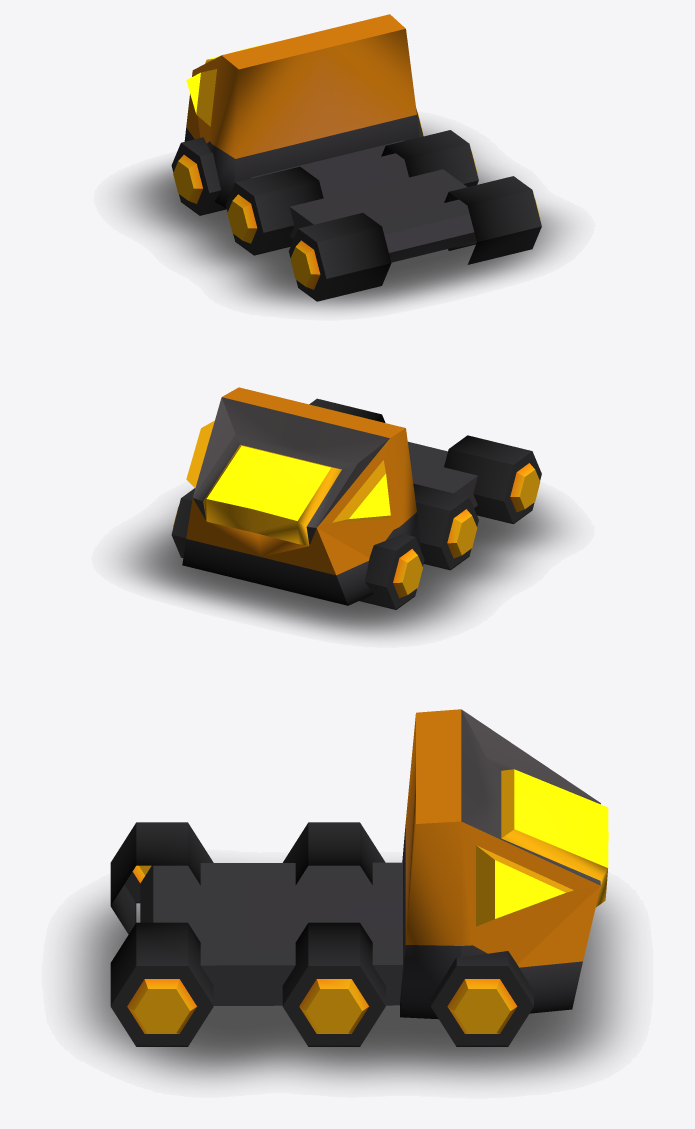
The model's file is lorry-1.glb.
3 renders of one model, top to bottom at view 1: azimuth 30°, elevation 25°; view 2: azimuth 150°, elevation 25°; view 3: azimuth 270°, elevation 25°, orthographic. The views are drawn at different scales.
Visible parts, largest first — view 1: Cylinder, Plane.002; view 2: Cylinder, Plane.002; view 3: Cylinder, Plane.002.
Boxes of the visible parts, x1,y1,x2,y2 form: Cylinder: (171, 14, 541, 301); Plane.002: (121, 124, 567, 310); Cylinder: (171, 387, 541, 609); Plane.002: (118, 494, 567, 637); Cylinder: (110, 709, 608, 1046); Plane.002: (68, 895, 626, 1082).
Bounding box in the file's own units: 12.56 × 4.36 × 12.56.
Materials: 3 (1 with a texture image).
